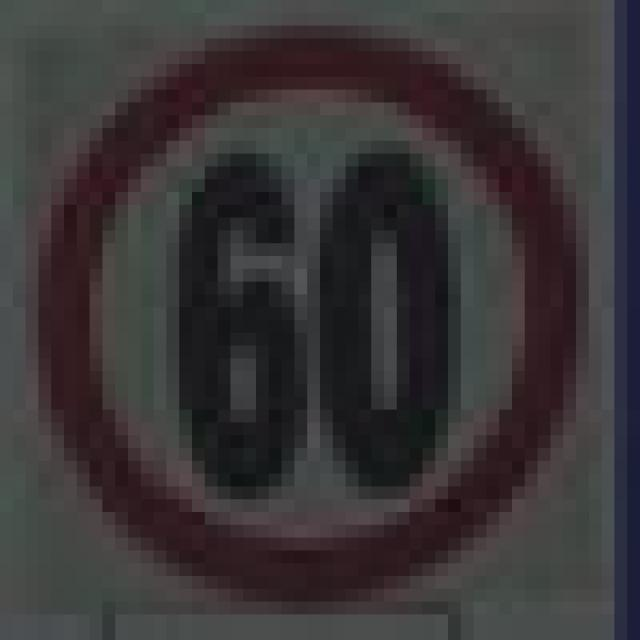SPEED_LIMIT_60: (26, 26, 563, 563)
